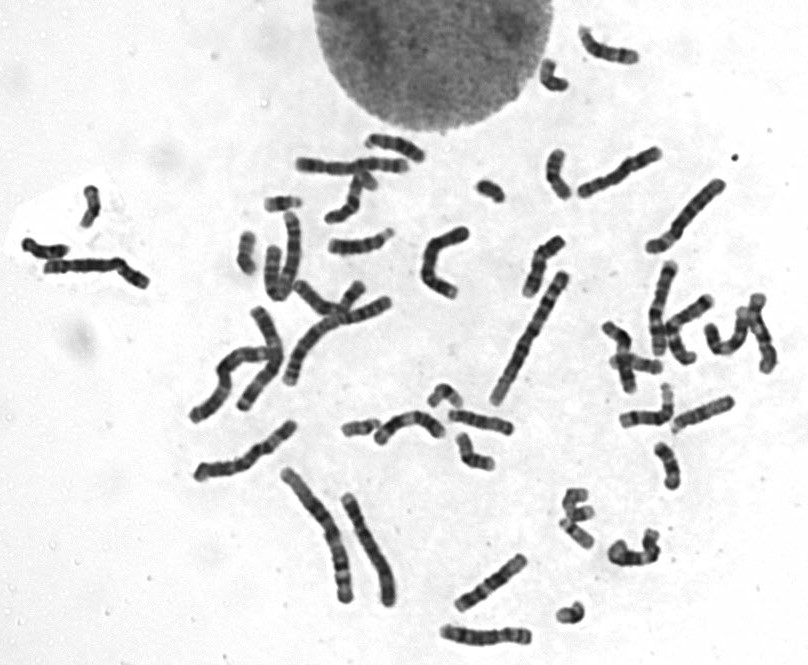chromosomes: (273, 465, 362, 611), (487, 262, 574, 409), (278, 276, 372, 392), (187, 413, 307, 489), (340, 490, 406, 614), (640, 172, 733, 259), (187, 343, 273, 425), (231, 301, 290, 419), (453, 543, 537, 617), (290, 274, 402, 329), (37, 255, 162, 301), (577, 142, 668, 204), (661, 285, 723, 371), (416, 220, 478, 304), (258, 208, 308, 304), (319, 168, 386, 233), (279, 149, 420, 179), (517, 227, 572, 302), (665, 389, 742, 438), (596, 315, 642, 397), (372, 406, 452, 453), (647, 251, 682, 357), (351, 122, 431, 168), (575, 21, 647, 71), (432, 621, 541, 654), (597, 522, 667, 573), (702, 296, 754, 364), (322, 220, 404, 263), (618, 379, 679, 433), (748, 285, 782, 380), (648, 435, 691, 501), (453, 427, 506, 478), (449, 406, 526, 441), (73, 173, 111, 236), (539, 140, 575, 202), (12, 229, 75, 264), (556, 481, 602, 526), (229, 227, 265, 284), (421, 373, 469, 415), (556, 513, 600, 557), (552, 589, 592, 634), (605, 350, 671, 377), (536, 55, 576, 99), (334, 411, 387, 441), (470, 176, 514, 209), (260, 191, 314, 217)
